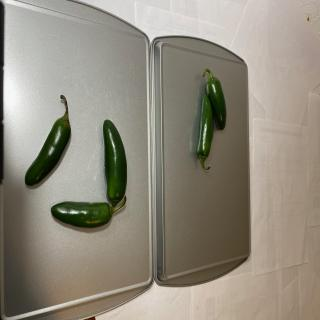Chilli: (51, 119, 128, 228), (196, 68, 227, 170)
Tomato: (25, 95, 71, 186), (50, 195, 126, 228), (102, 119, 127, 202), (202, 68, 227, 131)
